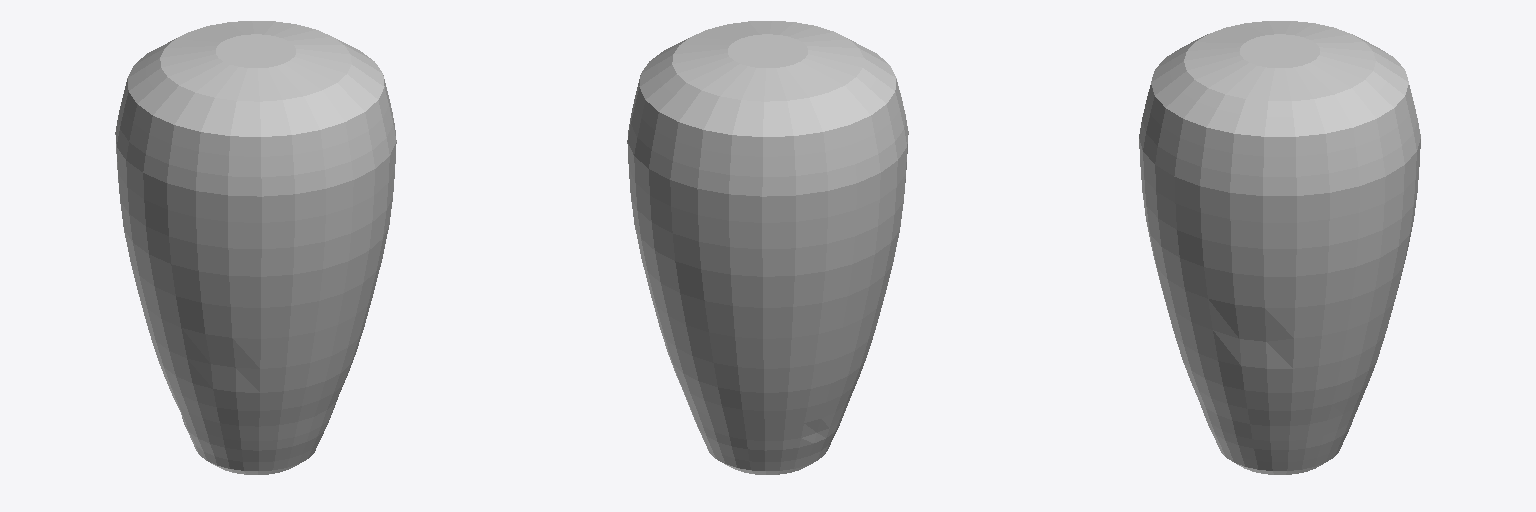
The model's file is doener.obj.
3 views of the same model, side by side, from view 1: azimuth 30°, elevation 25°; view 2: azimuth 150°, elevation 25°; view 3: azimuth 270°, elevation 25° (orthographic).
Parts seen in each view (by area): view 1: Cylinder_Cylinder.002; view 2: Cylinder_Cylinder.002; view 3: Cylinder_Cylinder.002.
Boxes of the visible parts, x1=… form: Cylinder_Cylinder.002: x1=115, y1=21, x2=396, y2=474; Cylinder_Cylinder.002: x1=627, y1=21, x2=908, y2=474; Cylinder_Cylinder.002: x1=1139, y1=21, x2=1420, y2=474.
Size of the model in its own units: 1.84 by 2.96 by 1.85.